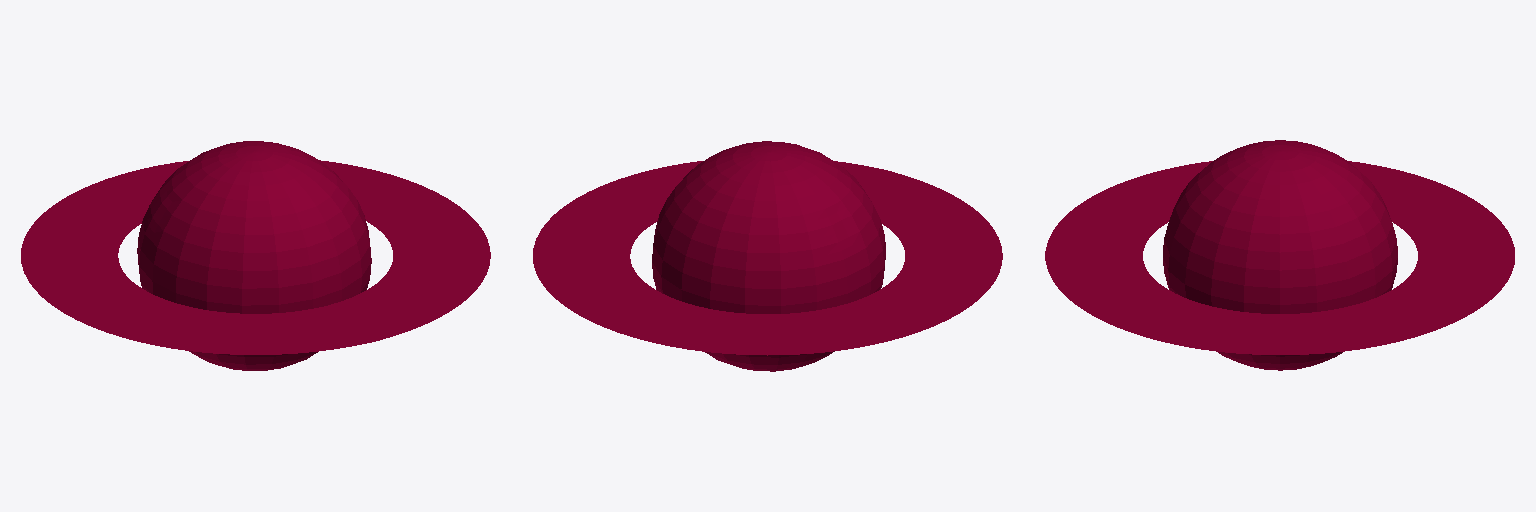
The model's file is Saturn.obj.
3 views of the same model, side by side, from view 1: azimuth 30°, elevation 25°; view 2: azimuth 150°, elevation 25°; view 3: azimuth 270°, elevation 25° (orthographic).
Visible parts, largest first — view 1: Saturn; view 2: Saturn; view 3: Saturn.
Part boxes in pixels (x1,y1,x2,y2): Saturn: (21,141,490,370); Saturn: (533,141,1002,371); Saturn: (1045,140,1514,370).
Bounding box in the file's own units: 473 × 231 × 473.